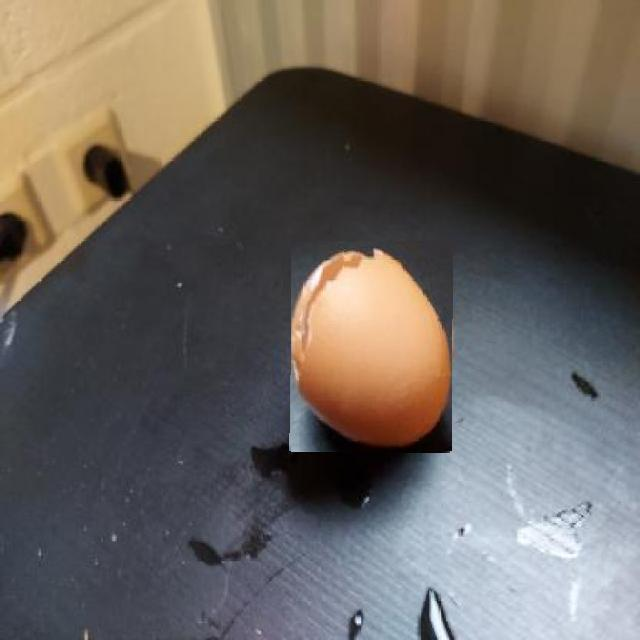biodegradable: (290, 241, 453, 453)
